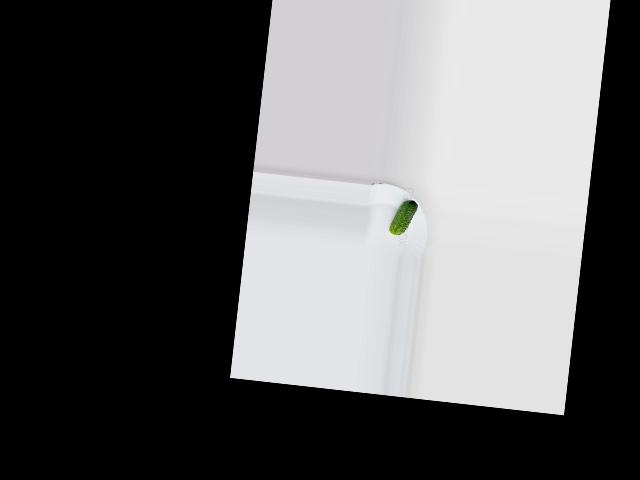cucumber: (388, 198, 417, 237)
